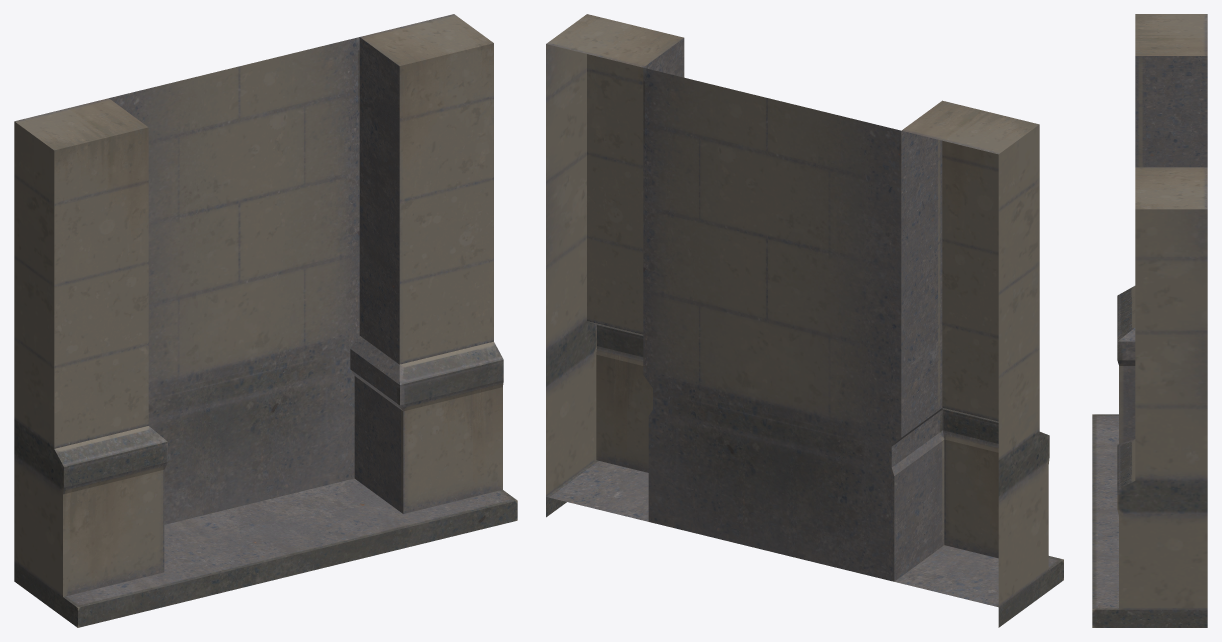
File: SM_Wall03Bottom.FBX
3 renders of one model, left to right at view 1: azimuth 30°, elevation 25°; view 2: azimuth 150°, elevation 25°; view 3: azimuth 270°, elevation 25°, orthographic. The views are drawn at different scales.
Parts seen in each view (by area): view 1: SM_Wall03Bottom; view 2: SM_Wall03Bottom; view 3: SM_Wall03Bottom.
Boxes of the visible parts, x1,y1,x2,y2 form: SM_Wall03Bottom: (14, 14, 517, 627); SM_Wall03Bottom: (546, 14, 1063, 627); SM_Wall03Bottom: (1092, 14, 1207, 627).
Bounding box in the file's own units: 400 × 100 × 400.
